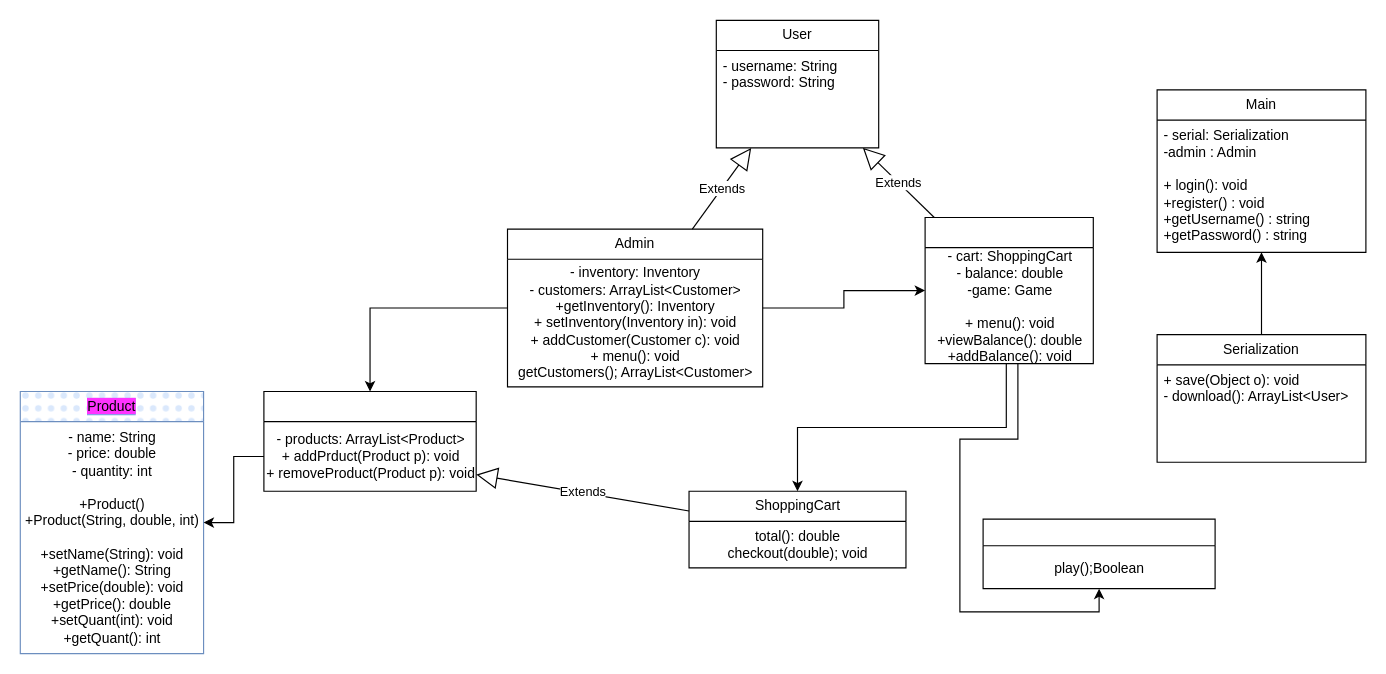
This 1386x674 diagram has some shape labels left out. The shapes that lost their labels are listed below. From the top down, each one's box as (x1, y1, x2, y2) in pixels, then its label:
(924, 216, 1093, 364): Customer
(263, 390, 476, 491): Inventory
(982, 518, 1215, 589): Game
